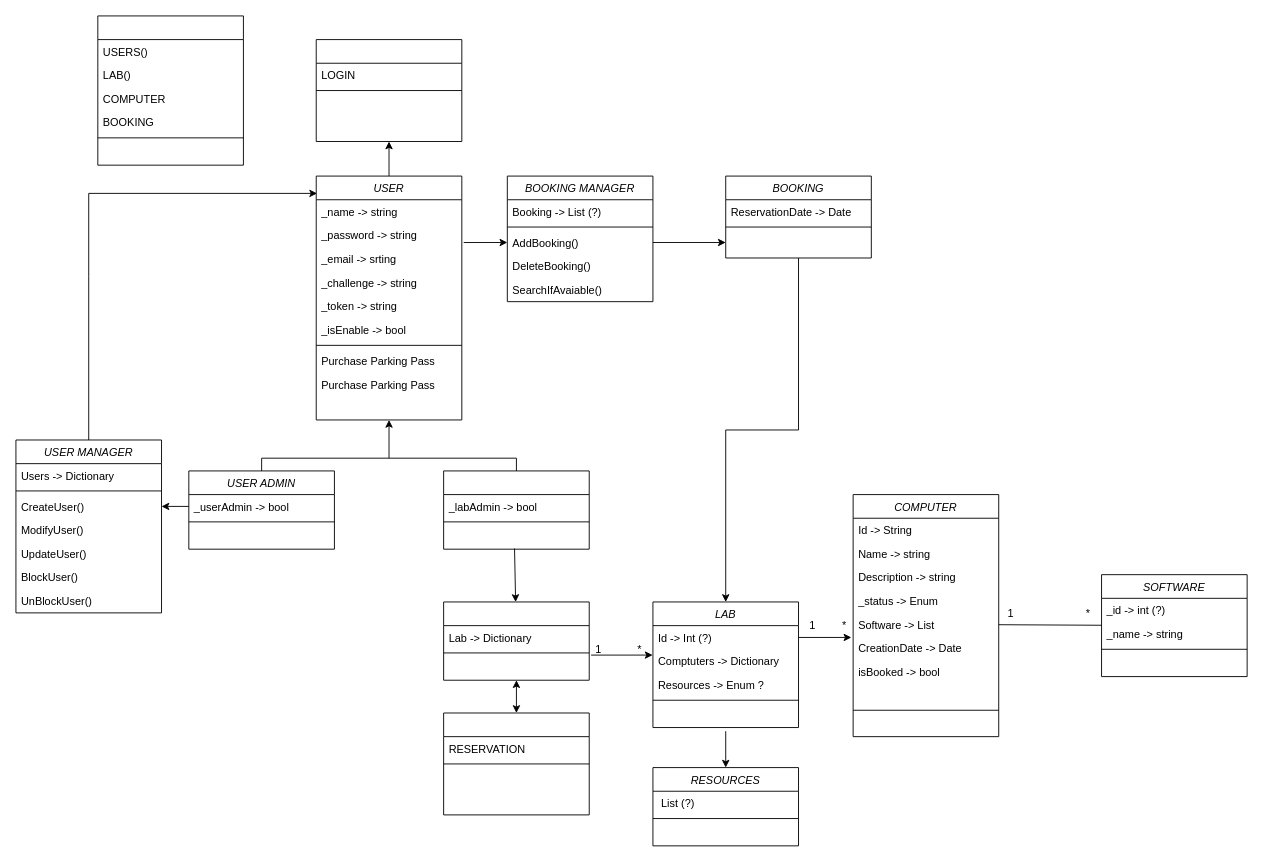
Some shapes in this 1263 by 865 pixel diagram are drawn without their labels. The shapes that lost their labels are listed below. From the top down, each one's box as (x1, y1, x2, y2) in pixels, then its label:
(97, 15, 243, 165): FILEMANAGER
(315, 39, 462, 142): USER CONTROLLER
(443, 470, 589, 549): LAB ADMINISTRATOR
(443, 601, 589, 680): LAB MANAGER
(443, 712, 589, 815): LAB CONTROLLER
